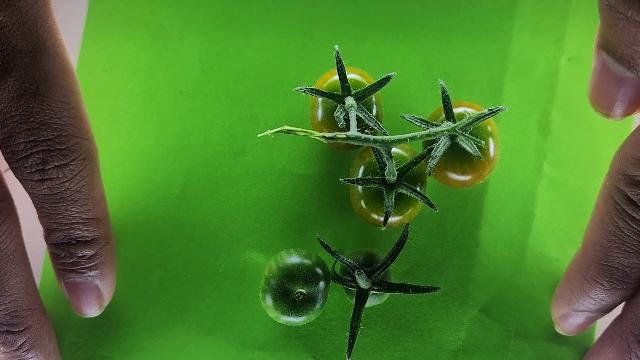Fruit Maturation: (258, 247, 332, 326), (334, 248, 392, 308)
Fully Grown: (346, 141, 427, 229), (421, 101, 500, 188), (311, 66, 383, 150)
